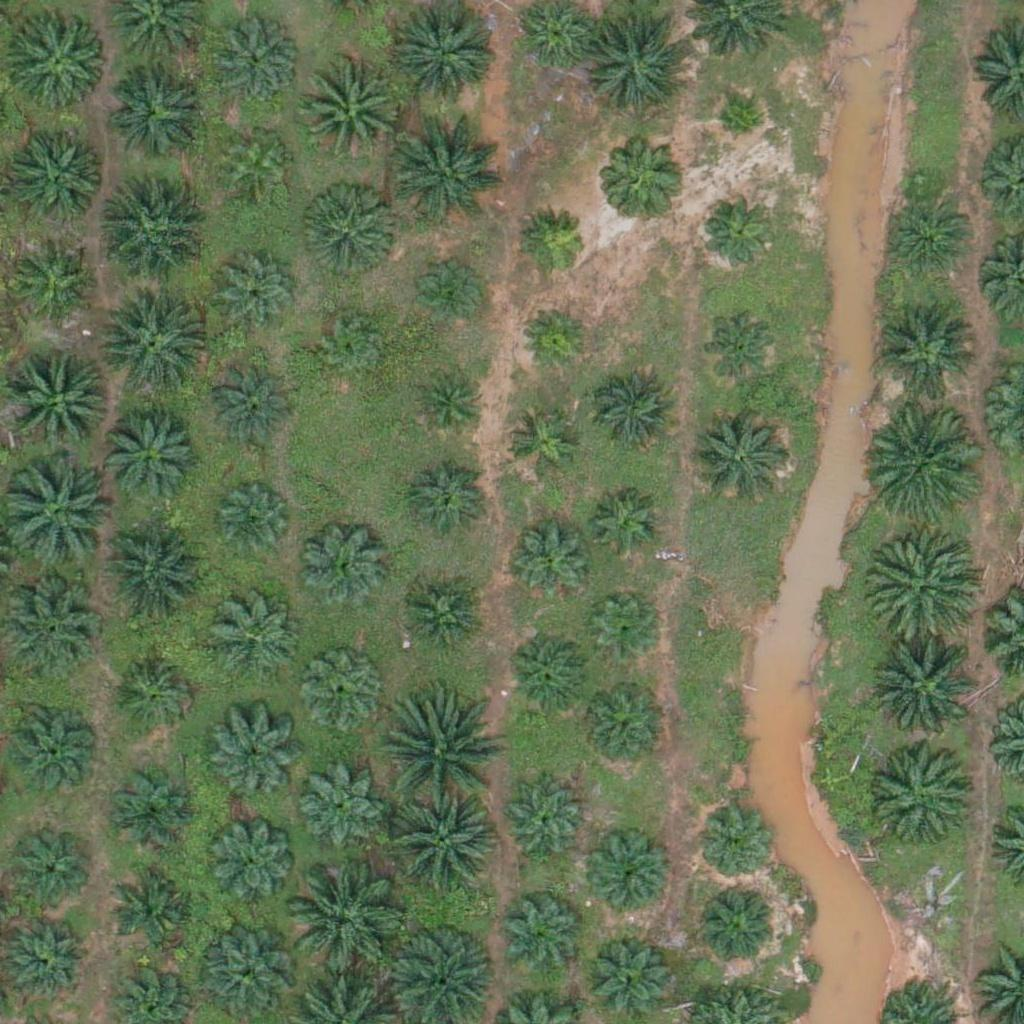Kelapa_Sawit: (868, 403, 981, 517), (864, 527, 977, 640), (386, 699, 499, 812), (91, 524, 204, 637), (871, 636, 983, 750), (6, 346, 118, 460), (384, 792, 496, 905), (287, 865, 399, 978), (92, 175, 204, 288), (93, 289, 205, 402), (394, 115, 506, 228), (586, 6, 698, 119), (874, 745, 974, 846), (689, 409, 789, 510), (100, 411, 200, 512), (8, 130, 108, 231), (7, 6, 107, 107), (107, 61, 207, 162), (299, 61, 399, 162), (876, 300, 976, 401), (300, 180, 400, 280), (506, 515, 594, 604), (698, 303, 786, 392), (404, 459, 492, 547), (392, 575, 480, 663), (576, 682, 664, 770), (499, 892, 587, 980), (208, 718, 296, 806), (208, 819, 296, 907), (8, 704, 96, 792), (109, 650, 197, 738), (298, 651, 386, 739), (14, 231, 102, 319), (207, 364, 295, 452), (214, 246, 302, 334), (598, 129, 686, 217), (592, 368, 680, 456), (505, 630, 592, 718), (498, 778, 585, 866), (587, 835, 674, 923), (694, 881, 781, 969), (583, 930, 670, 1018), (6, 829, 93, 917), (7, 913, 94, 1001), (113, 860, 200, 948), (105, 763, 192, 851), (300, 522, 387, 610), (297, 764, 384, 852), (211, 595, 298, 683), (212, 13, 299, 101), (696, 185, 783, 273), (883, 188, 970, 276), (215, 485, 290, 561), (413, 256, 488, 332), (588, 595, 663, 671), (697, 808, 772, 884), (411, 368, 486, 444), (518, 206, 593, 281), (219, 127, 294, 202), (503, 406, 578, 481), (317, 311, 392, 386), (591, 490, 666, 565), (518, 302, 593, 377), (715, 100, 765, 150)
